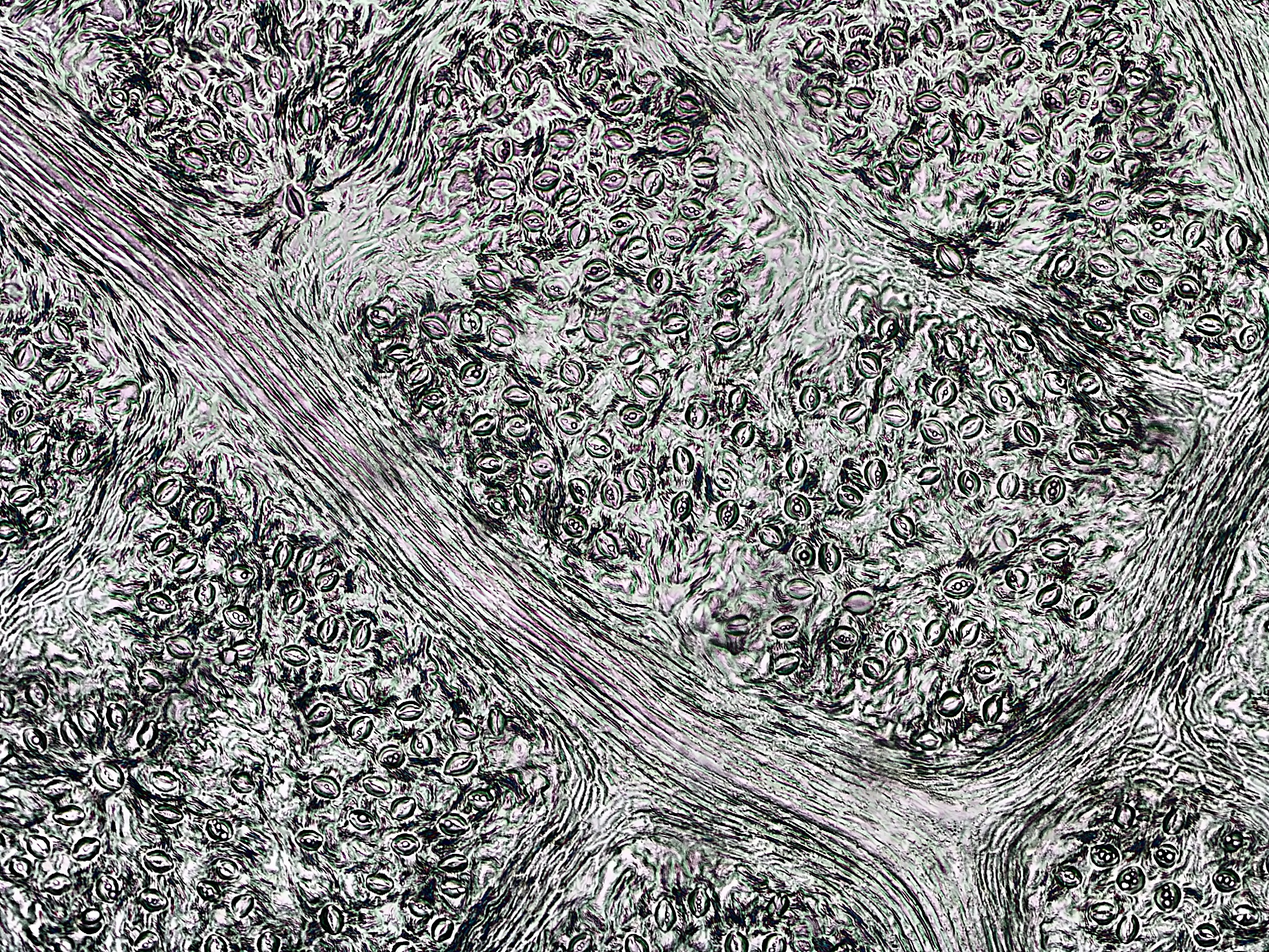stomata: (942, 573, 979, 600), (1053, 41, 1083, 71), (441, 751, 478, 775), (687, 885, 712, 920), (935, 244, 967, 271), (95, 760, 123, 790), (458, 358, 488, 386), (286, 180, 308, 218), (1070, 439, 1102, 465), (320, 903, 345, 936), (299, 102, 323, 136), (1054, 163, 1078, 197), (1155, 883, 1182, 913), (1040, 475, 1066, 506), (1212, 868, 1243, 894), (1086, 191, 1121, 214), (42, 365, 70, 393), (988, 385, 1016, 413), (784, 493, 812, 521), (1118, 864, 1146, 892), (156, 478, 183, 507), (293, 26, 316, 60), (11, 339, 36, 370), (146, 590, 177, 615), (931, 377, 956, 408), (654, 898, 676, 933), (765, 892, 792, 920), (633, 372, 661, 399), (842, 591, 878, 612), (226, 561, 255, 587), (225, 603, 254, 629), (919, 420, 948, 446), (936, 691, 965, 717), (167, 634, 197, 659), (23, 724, 48, 754), (438, 810, 468, 835), (488, 323, 518, 348), (580, 318, 610, 343), (1039, 537, 1069, 562), (143, 849, 175, 872), (249, 111, 272, 143), (785, 451, 808, 483), (819, 542, 842, 574), (659, 128, 692, 150), (190, 496, 215, 525), (1089, 252, 1118, 277), (1174, 274, 1203, 299), (485, 177, 516, 200), (582, 259, 613, 282), (878, 404, 909, 427), (1117, 913, 1140, 944), (450, 717, 482, 739), (138, 666, 165, 692), (646, 266, 672, 293), (1136, 93, 1164, 118), (1014, 419, 1039, 447), (139, 887, 168, 911), (561, 515, 590, 539), (957, 469, 981, 498), (671, 490, 692, 523), (222, 78, 245, 108), (829, 626, 859, 649), (1053, 865, 1083, 888), (311, 775, 342, 797), (365, 872, 396, 894), (688, 155, 719, 177), (770, 653, 801, 675), (1229, 224, 1249, 258), (924, 120, 950, 146), (72, 835, 99, 860), (305, 701, 332, 726), (605, 126, 632, 151), (1088, 140, 1115, 165), (1136, 269, 1163, 294), (956, 414, 983, 439), (1003, 566, 1028, 593), (1154, 843, 1181, 868), (1092, 842, 1119, 867), (107, 700, 128, 732), (53, 804, 85, 825), (467, 787, 495, 811), (436, 852, 468, 873), (207, 23, 231, 51), (1081, 311, 1113, 332), (718, 499, 739, 531), (567, 219, 590, 248), (677, 197, 706, 220), (419, 388, 448, 411), (1141, 185, 1170, 208), (1195, 312, 1224, 335), (863, 459, 886, 488), (279, 644, 312, 664), (228, 138, 250, 168), (547, 29, 569, 59), (771, 616, 801, 638), (149, 531, 175, 556), (393, 832, 419, 857), (480, 94, 506, 119), (858, 352, 883, 378), (840, 399, 866, 424), (993, 527, 1018, 553), (26, 680, 50, 707), (503, 385, 530, 409), (972, 660, 999, 684), (1163, 808, 1187, 835), (548, 128, 576, 151), (533, 167, 561, 190), (542, 278, 570, 301), (420, 317, 448, 340), (560, 358, 583, 386), (568, 477, 591, 505), (1131, 303, 1159, 326), (603, 478, 623, 510), (348, 808, 377, 830), (181, 147, 210, 169), (606, 94, 635, 116), (608, 212, 637, 234), (1184, 220, 1206, 249), (351, 619, 372, 649), (42, 872, 72, 893), (395, 701, 425, 722), (295, 829, 325, 850), (475, 270, 505, 291), (1132, 126, 1162, 147), (785, 578, 815, 599), (970, 30, 995, 55), (898, 136, 923, 161), (890, 513, 915, 538), (1090, 900, 1115, 925), (348, 715, 372, 741), (847, 86, 873, 110), (875, 161, 899, 187), (837, 485, 863, 509), (1036, 583, 1062, 607), (1101, 411, 1128, 434), (1192, 923, 1219, 946), (318, 616, 340, 644), (762, 930, 790, 952), (144, 36, 172, 58), (599, 170, 627, 192), (1076, 5, 1104, 27), (1112, 230, 1140, 252), (158, 451, 187, 472), (154, 804, 183, 825), (266, 60, 287, 89), (385, 342, 414, 363), (662, 312, 691, 333), (885, 630, 906, 659), (981, 695, 1002, 724), (42, 778, 72, 798), (411, 733, 435, 758), (337, 108, 362, 132), (581, 60, 601, 90), (622, 467, 646, 492), (1000, 47, 1025, 71), (8, 399, 31, 425), (557, 411, 583, 434), (585, 434, 611, 457), (876, 315, 899, 341), (1042, 371, 1068, 394), (732, 420, 755, 446), (757, 524, 783, 547), (1074, 594, 1097, 620), (1113, 803, 1136, 829), (80, 908, 102, 935), (346, 675, 368, 702), (597, 532, 619, 559), (1232, 903, 1259, 925), (915, 728, 942, 750), (1146, 216, 1174, 237), (685, 401, 706, 429), (505, 414, 529, 438), (531, 454, 555, 478), (663, 226, 688, 249), (621, 405, 646, 428), (792, 541, 815, 566), (26, 505, 48, 531), (232, 892, 254, 918), (1122, 155, 1144, 181), (728, 893, 747, 923), (61, 720, 82, 747), (76, 707, 97, 734), (441, 877, 468, 898), (509, 66, 530, 93), (713, 320, 740, 341), (716, 288, 743, 309), (987, 198, 1014, 219), (726, 614, 753, 635), (958, 620, 979, 647), (26, 427, 46, 455), (138, 721, 158, 749), (643, 168, 663, 196), (673, 446, 693, 474), (26, 834, 50, 857), (8, 855, 31, 879), (391, 797, 414, 821), (147, 94, 170, 118), (845, 51, 869, 74), (1042, 87, 1065, 111), (1093, 61, 1116, 85), (1078, 370, 1101, 394), (273, 539, 292, 568), (488, 707, 507, 736), (207, 818, 232, 840), (257, 930, 282, 952), (379, 745, 404, 767), (431, 919, 456, 941), (570, 930, 595, 952), (802, 37, 824, 62), (364, 775, 390, 796), (367, 305, 393, 326), (513, 482, 534, 508), (998, 472, 1019, 498), (284, 588, 304, 615), (239, 25, 259, 52), (326, 16, 346, 43), (806, 85, 833, 105), (1098, 30, 1128, 48), (800, 385, 820, 412), (924, 619, 944, 646), (69, 438, 88, 466), (99, 875, 118, 903), (964, 111, 983, 139), (1236, 324, 1259, 347), (713, 468, 736, 491), (134, 930, 158, 952), (323, 77, 347, 99), (626, 238, 650, 260), (516, 253, 538, 277), (1011, 156, 1035, 178), (1221, 829, 1245, 851), (51, 318, 72, 343), (493, 138, 514, 163), (522, 211, 547, 232), (470, 414, 495, 435), (476, 452, 501, 473), (943, 334, 964, 359), (231, 639, 257, 659), (623, 932, 649, 952), (8, 484, 35, 503), (497, 23, 524, 42), (923, 20, 942, 47), (949, 71, 968, 98), (198, 880, 221, 902), (216, 857, 238, 880), (460, 310, 482, 333), (1105, 94, 1127, 117), (173, 553, 197, 574), (197, 579, 215, 607), (619, 342, 643, 363), (408, 896, 433, 916), (203, 933, 229, 952), (916, 92, 942, 111), (296, 545, 314, 572), (726, 930, 748, 952), (1020, 121, 1042, 143), (435, 82, 452, 110), (484, 48, 503, 73), (729, 387, 748, 412), (196, 119, 218, 140), (1011, 330, 1033, 351), (862, 656, 883, 678), (406, 361, 426, 384), (229, 773, 253, 792), (147, 0, 175, 16), (317, 570, 338, 591), (106, 87, 127, 108), (558, 185, 579, 206), (1054, 254, 1075, 275), (889, 27, 909, 49), (153, 772, 176, 791), (0, 688, 15, 717), (917, 467, 941, 485), (1125, 69, 1150, 86), (181, 69, 203, 88), (489, 495, 508, 514), (218, 0, 243, 14), (740, 0, 764, 14), (0, 520, 16, 539), (0, 738, 12, 763), (392, 941, 414, 952)
